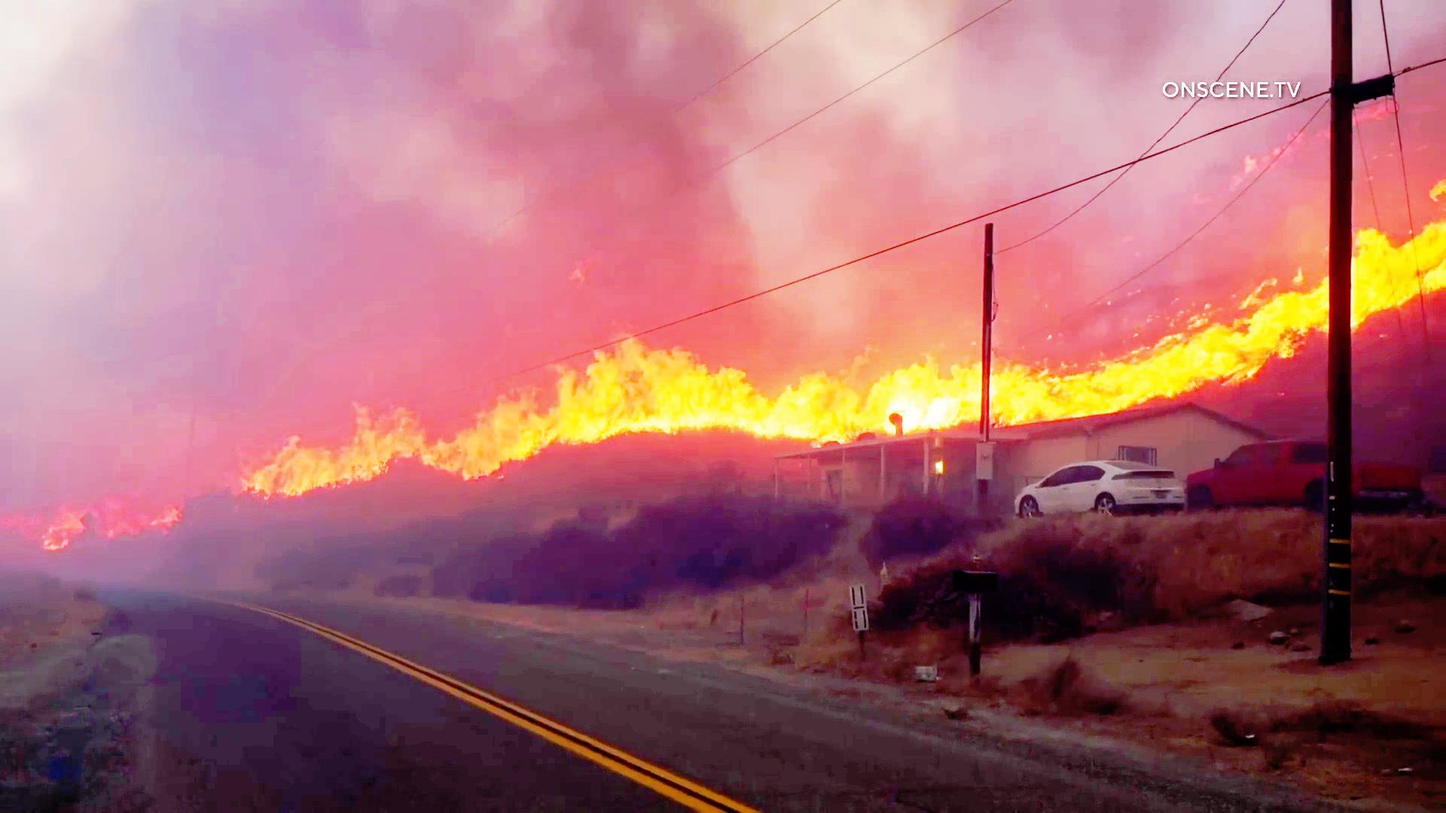fire: (496, 317, 1034, 435), (222, 397, 465, 502), (1055, 317, 1264, 422), (1269, 241, 1437, 353)
smoke: (14, 2, 929, 270)
